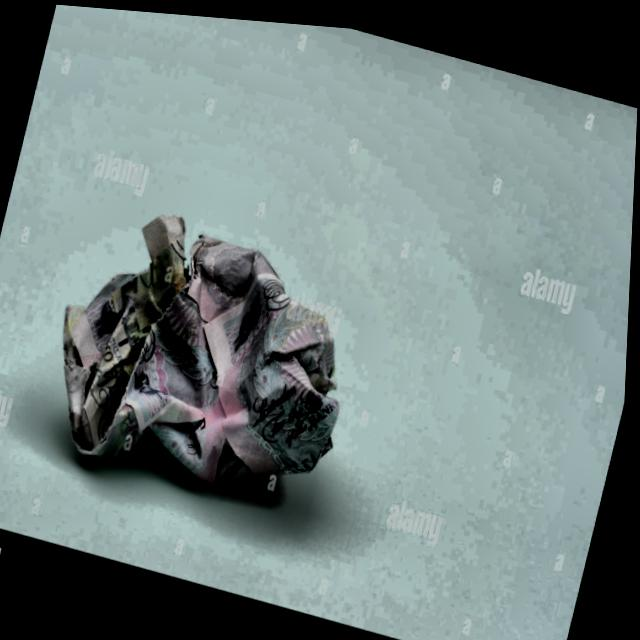Paper: (16, 171, 410, 559)
